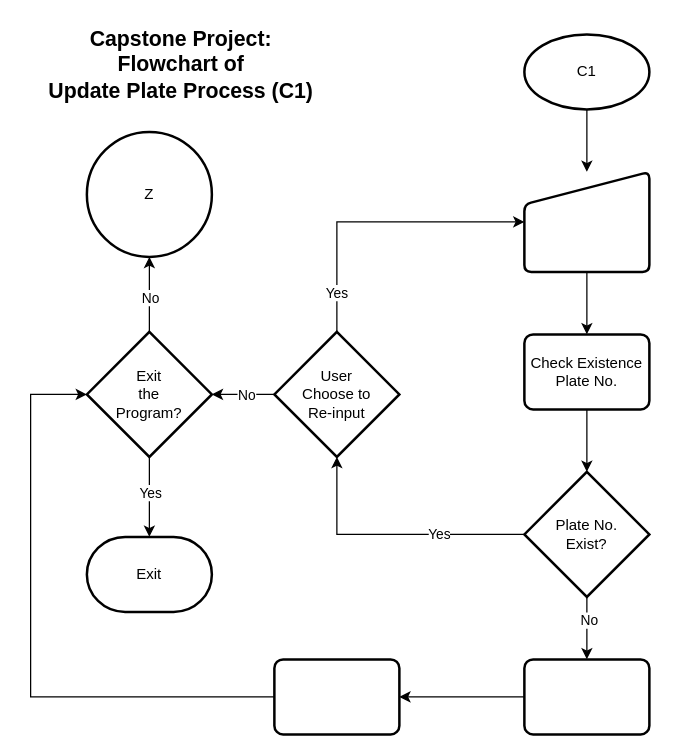
Image size: 673x756. Some labels were removed from this diagram. The shapes that lost their labels are listed below. From the top down, each one's box as (x1, y1, x2, y2) in pixels, then its label:
(522, 170, 650, 272): User Input New Plate No.
(272, 658, 400, 735): Display Updated Car Information
(522, 658, 650, 735): Update Plate Number
